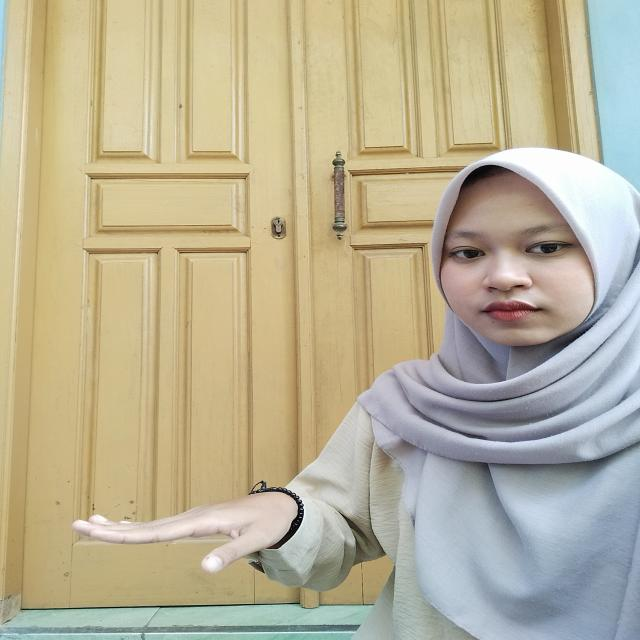adik: (46, 477, 323, 587)
